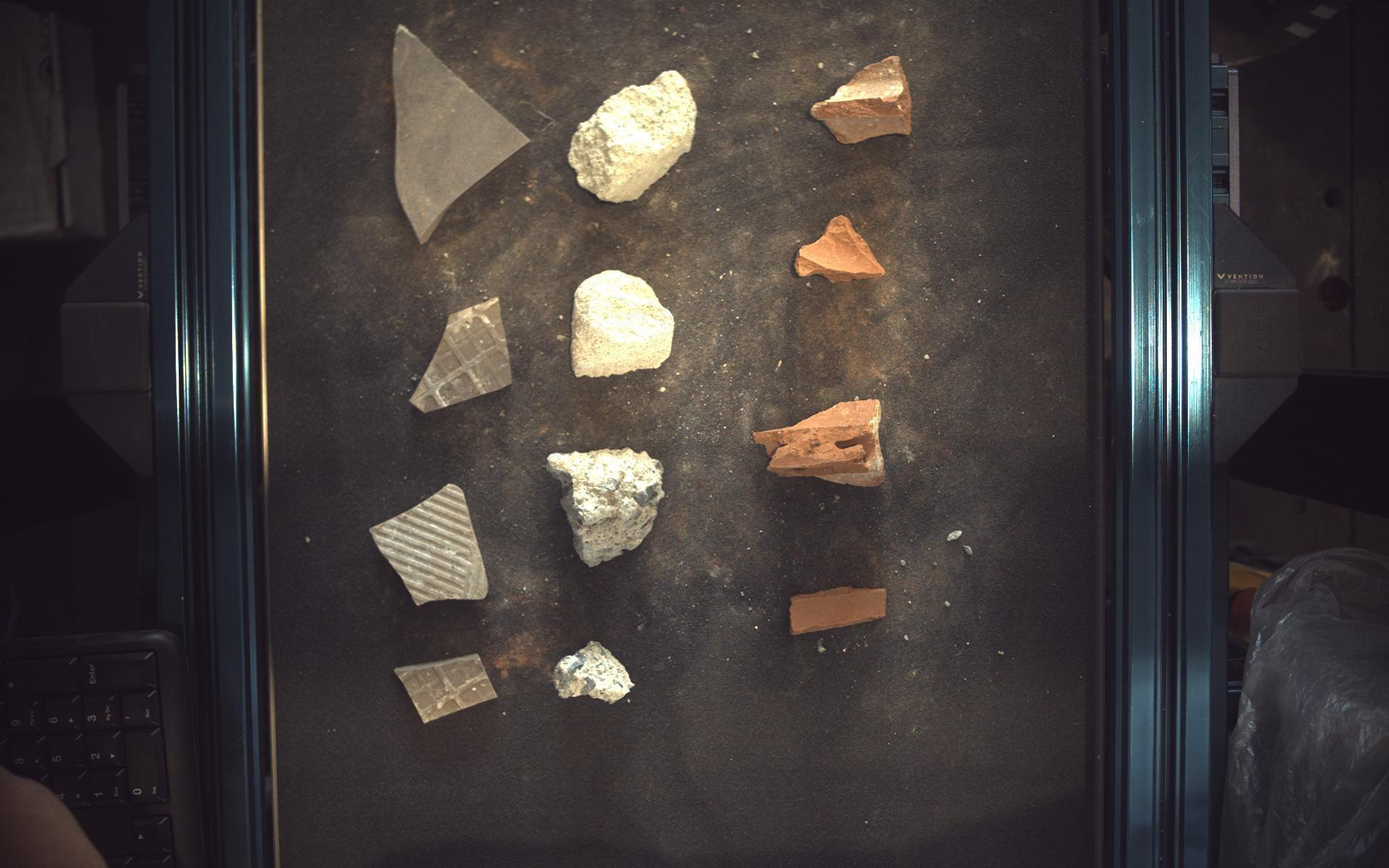brick: (755, 400, 886, 487), (814, 55, 913, 142), (797, 215, 886, 281), (791, 587, 887, 636)
concrete: (569, 69, 697, 202), (548, 448, 666, 567), (572, 270, 676, 377), (553, 642, 635, 705)
tile: (392, 24, 529, 242), (370, 485, 488, 606), (409, 297, 511, 412), (394, 655, 497, 724)
